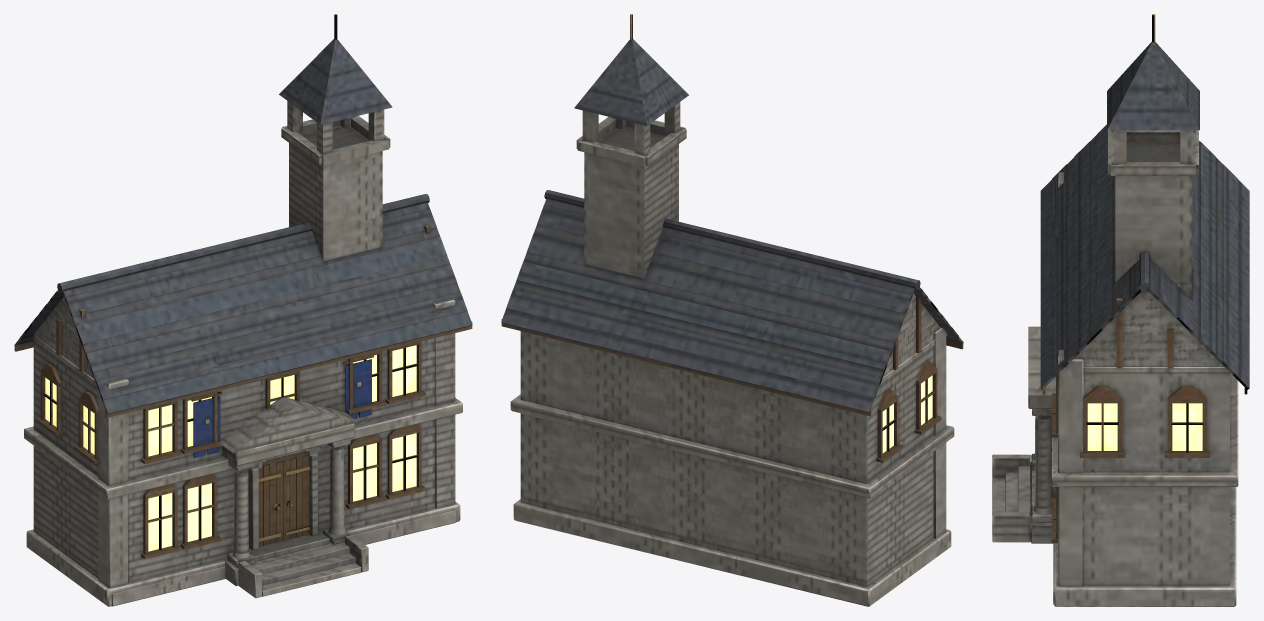
Rendered from conselho.glb.
3 renders of one model, left to right at view 1: azimuth 30°, elevation 25°; view 2: azimuth 150°, elevation 25°; view 3: azimuth 270°, elevation 25°, orthographic. The views are drawn at different scales.
Parts seen in each view (by area): view 1: conselho; view 2: conselho; view 3: conselho.
Part boxes in pixels (left/top/right/bottom): conselho: left=14, top=14, right=472, bottom=606; conselho: left=501, top=14, right=963, bottom=606; conselho: left=992, top=14, right=1249, bottom=606.
Size of the model in its own units: 11.14 by 14.3 by 6.06.
Materials: 1 (1 with a texture image).
